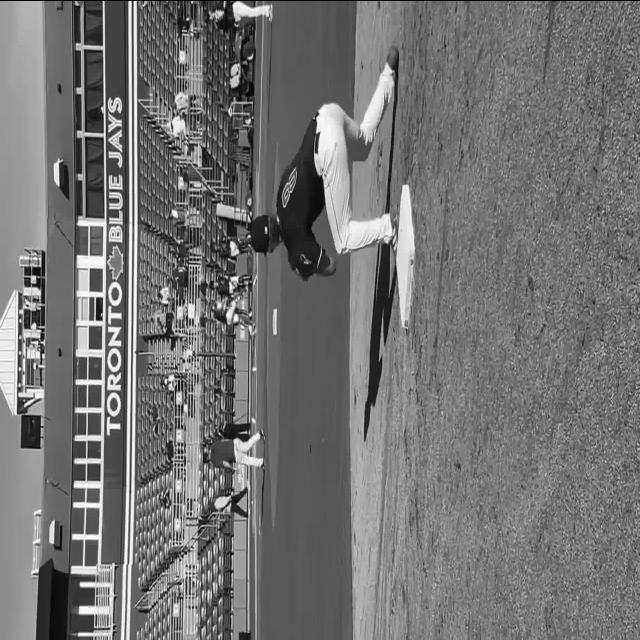base: (396, 184, 415, 327)
shoe: (390, 207, 400, 251), (386, 44, 400, 73)
